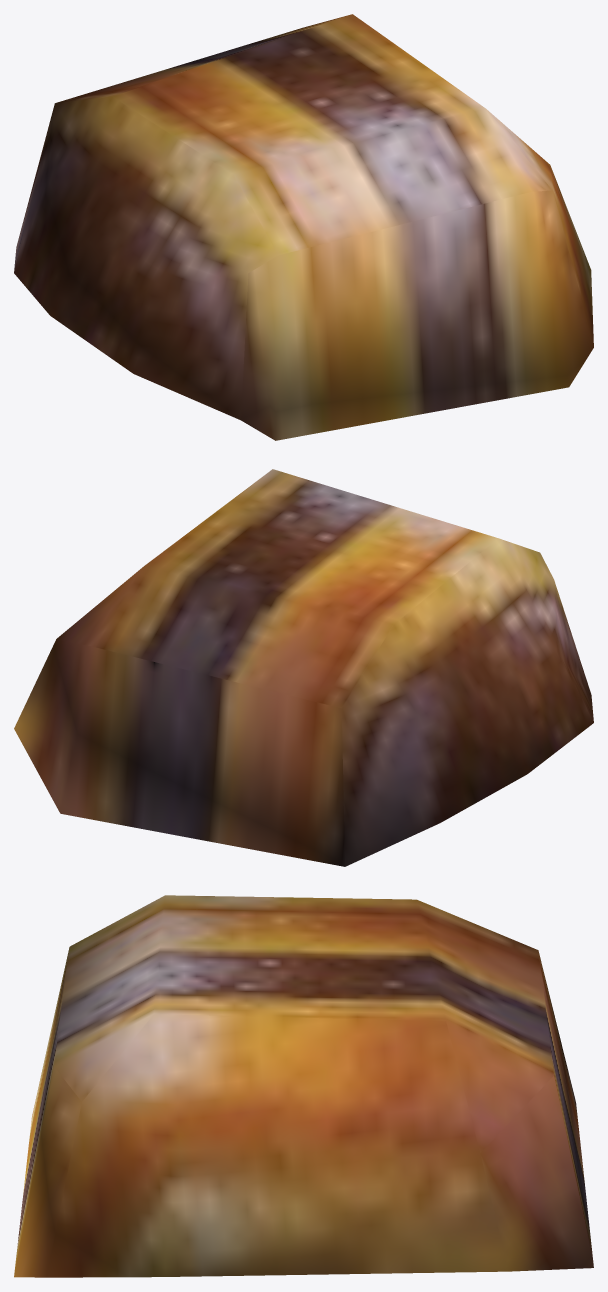
File: Bread_04.fbx
3 views of the same model, one above another, from view 1: azimuth 30°, elevation 25°; view 2: azimuth 150°, elevation 25°; view 3: azimuth 270°, elevation 25° (orthographic). The views are drawn at different scales.
Visible parts, largest first — view 1: Bread_04; view 2: Bread_04; view 3: Bread_04.
Part boxes in pixels (bbox=[...]): Bread_04: bbox=[14, 14, 593, 440]; Bread_04: bbox=[14, 469, 593, 866]; Bread_04: bbox=[14, 895, 593, 1277].
Bounding box in the file's own units: 10.52 × 5.08 × 10.53.
